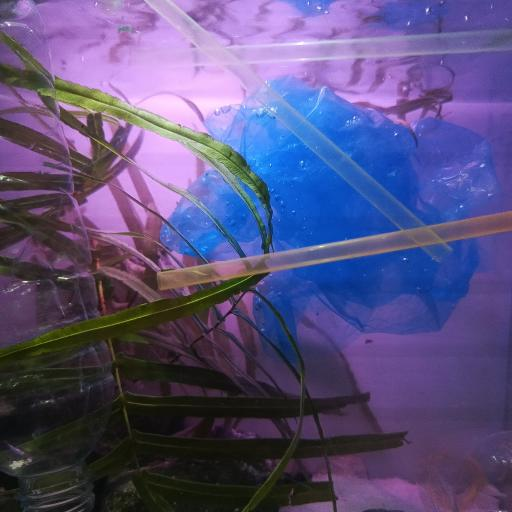plastic_bag: (160, 76, 492, 350)
plastic_bottle: (0, 4, 120, 510), (423, 425, 511, 512)
plastic_straw: (143, 0, 453, 261), (158, 210, 512, 306), (140, 29, 512, 68)
